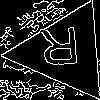R: (39, 27, 82, 76)
